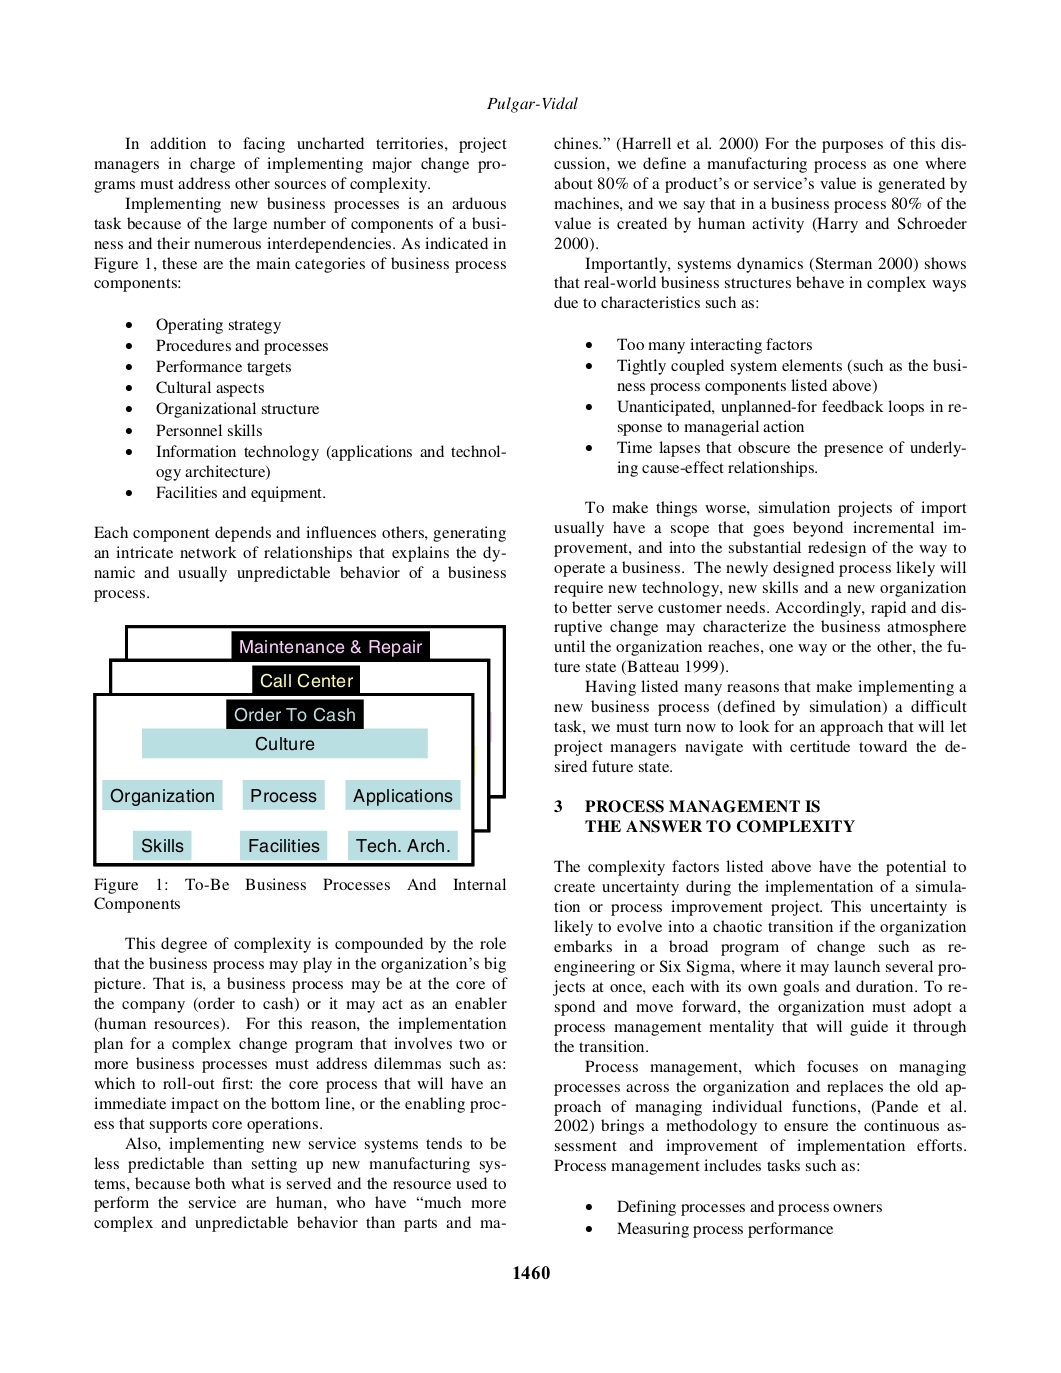figure: (93, 624, 505, 867)
